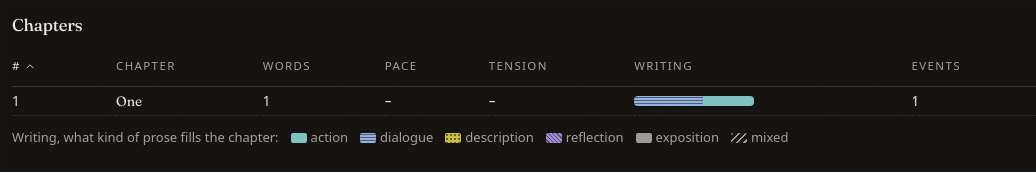
it: hovering a writing bar names the segment under the pointer, and nothing off the bar
Hover over the picture named "dialogue 57%, action 43%".
mouse_move(694, 100)  # box [634, 96, 754, 106]
Hover over the picture named "dialogue 57%, action 43%".
mouse_move(694, 100)  # box [634, 96, 754, 106]
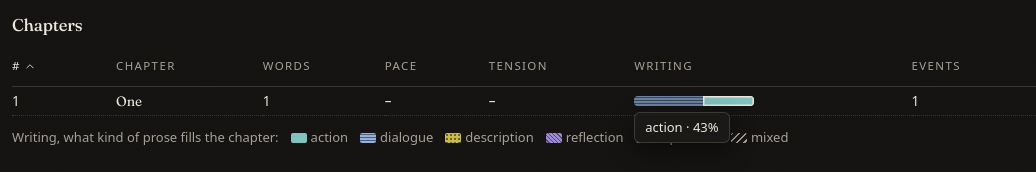
Now the tooltip reads "action · 43%", box [645, 118, 719, 136]
// Off the bar but still inside the tooltip's wrapper, as on the way to the panel.
Move the pointer off the picture named "dialogue 57%, action 43%", box [634, 96, 754, 106]
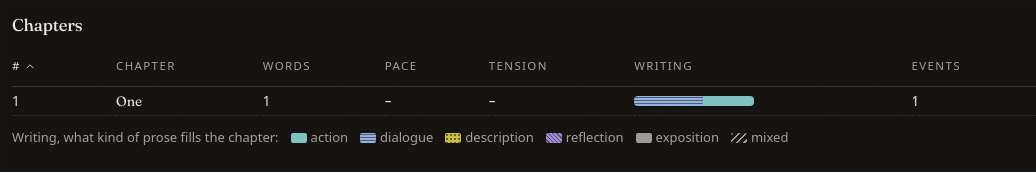
Now the tooltip "action · 43%" is gone
Hover over the picture named "dialogue 57%, action 43%".
mouse_move(694, 100)  # box [634, 96, 754, 106]
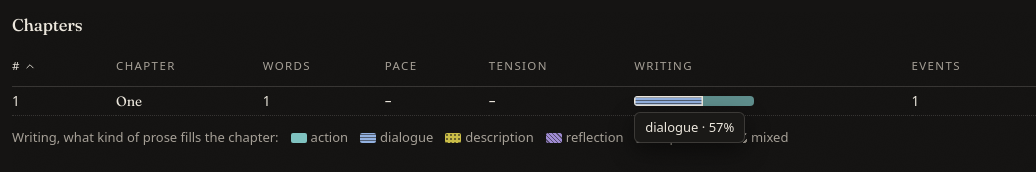
Now the tooltip reads "dialogue · 57%", box [645, 118, 734, 136]
